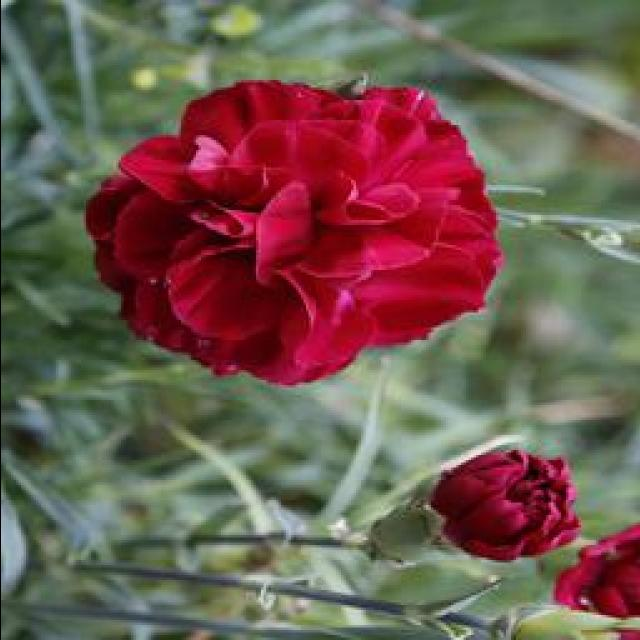carnation: (86, 64, 508, 410)
